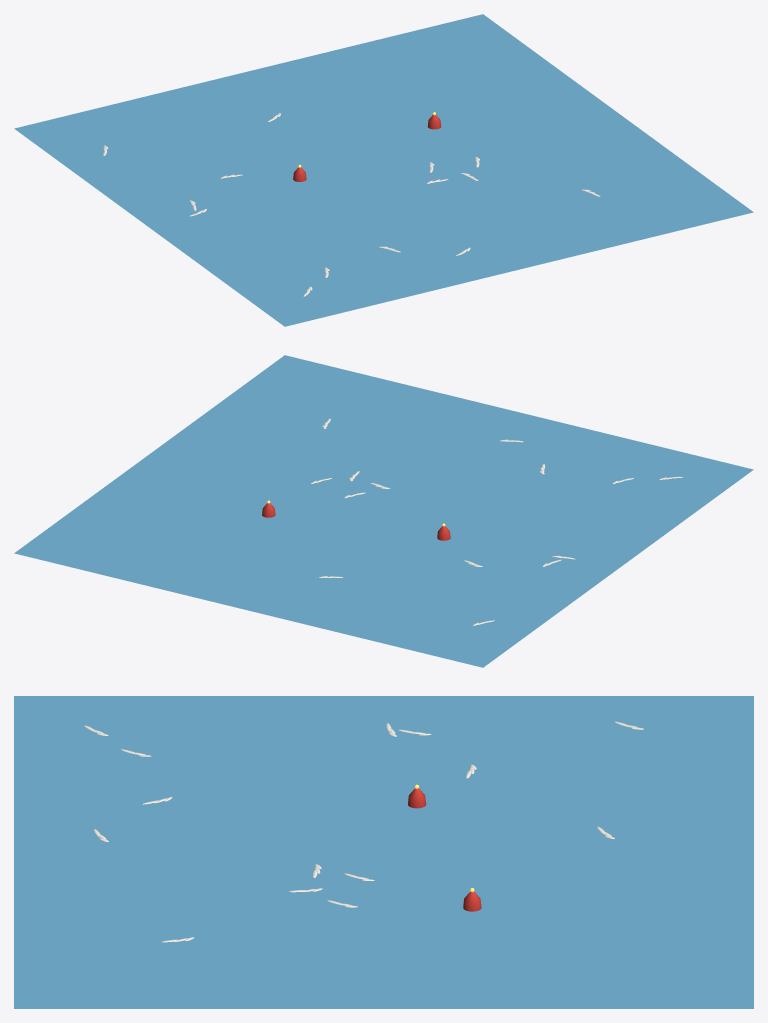
The model's file is land_sea.glb.
3 views of the same model, one above another, from view 1: azimuth 30°, elevation 25°; view 2: azimuth 150°, elevation 25°; view 3: azimuth 270°, elevation 25° (orthographic). The views are drawn at different scales.
Visible parts, largest first — view 1: land_sea; view 2: land_sea; view 3: land_sea.
Part boxes in pixels (bbox=[...]): land_sea: bbox=[14, 14, 753, 326]; land_sea: bbox=[14, 355, 753, 667]; land_sea: bbox=[14, 696, 753, 1008].
Bounding box in the file's own units: 40 × 1.17 × 40.
Materials: 1 (1 with a texture image).
